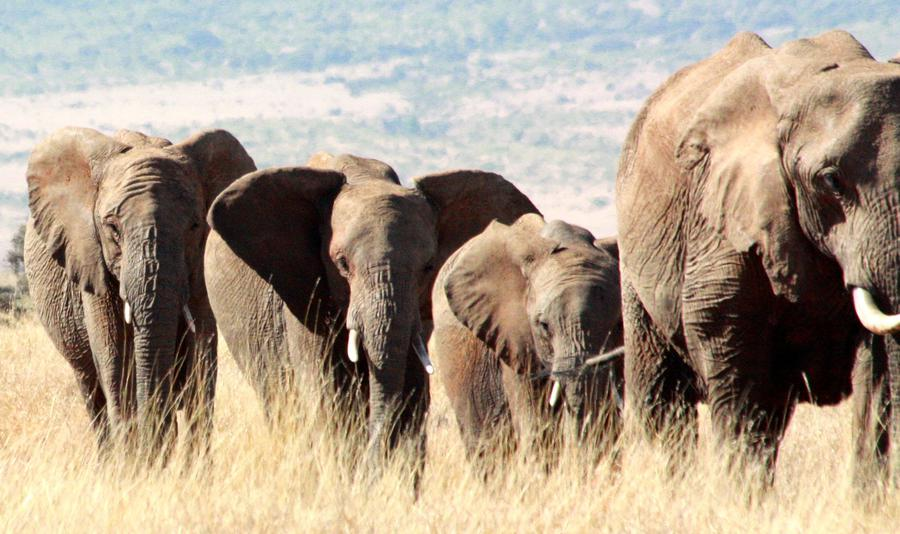elephant: (724, 70, 893, 372), (31, 133, 209, 335), (299, 180, 440, 377), (477, 248, 627, 422)
